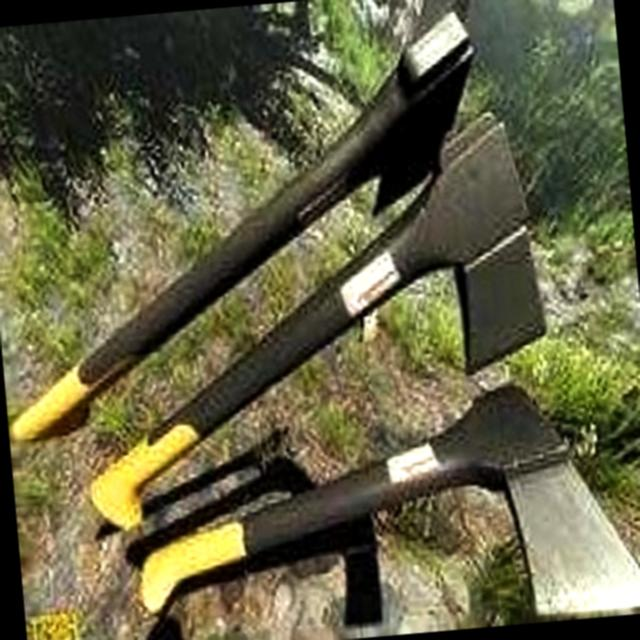ax: (0, 0, 511, 450), (42, 100, 570, 533), (119, 370, 640, 640)
